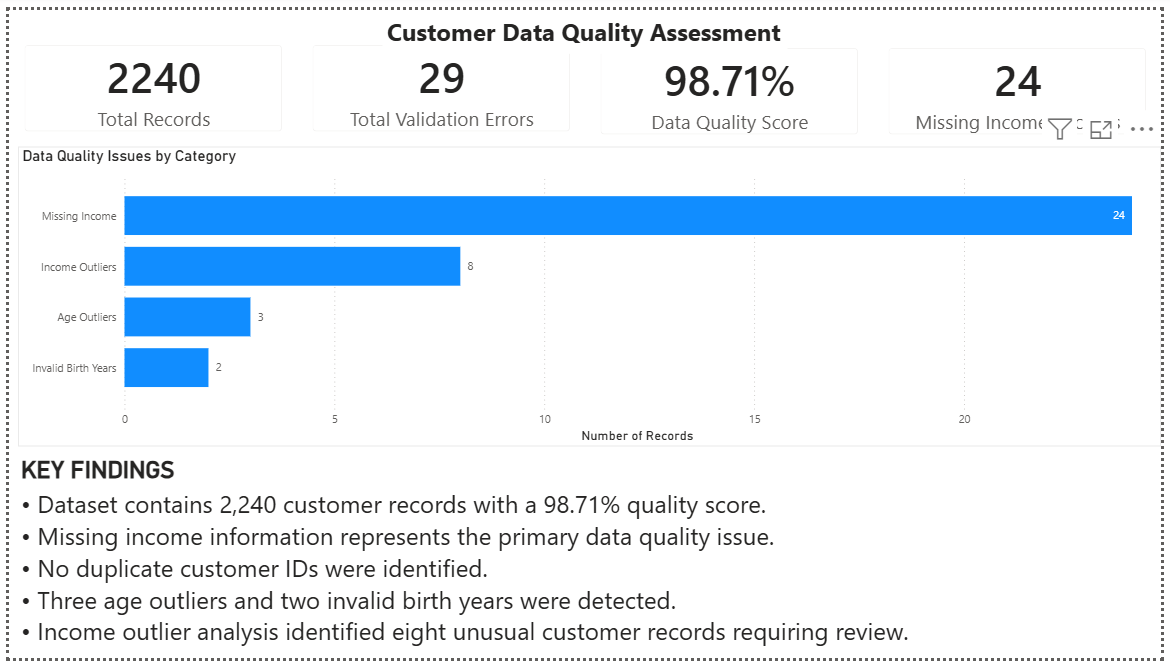

The page's visual inventory and layout, read from the dashboard file:
{"tool":"powerbi","page":{"name":"Data Quality Assessment","canvas":[1280,720],"ordinal":0},"visuals":[{"type":"cardVisual","fields":{"Data":["validation_summary.Total Records"]},"box":[0,21.7,320,130],"z":0},{"type":"cardVisual","fields":{"Data":["validation_summary.Total Validation Errors"]},"box":[320,21.7,320,130],"z":1000},{"type":"cardVisual","fields":{"Data":["validation_summary.Data Quality Score"]},"box":[640,25,320,130],"z":2000},{"type":"cardVisual","fields":{"Data":["validation_summary.Missing Income"]},"box":[960,25,320,130],"z":3000},{"type":"clusteredBarChart","title":"Data Quality Issues by Category","fields":{"Category":["validation_summary.Validation_Check"],"Y":["Sum(validation_summary.Count)"]},"box":[10,151.7,1270,333.3],"z":4000},{"type":"textbox","title":"KEY FINDINGS","box":[9,495,1270,225],"z":5000},{"type":"textbox","box":[415,0,450,48.3],"z":6000}]}

Visuals, with their boxes in screenshot pixels (x1, y1, x2, y2), scaled from the page's 1280x720 canvas onto the 1170x669 screenshot:
cardVisual - validation_summary.Total Records: 0, 20, 292, 141
cardVisual - validation_summary.Total Validation Errors: 292, 20, 585, 141
cardVisual - validation_summary.Data Quality Score: 585, 23, 878, 144
cardVisual - validation_summary.Missing Income: 878, 23, 1169, 144
"Data Quality Issues by Category" clusteredBarChart: 9, 141, 1169, 451
"KEY FINDINGS" textbox: 8, 460, 1169, 668
textbox: 379, 0, 791, 45
